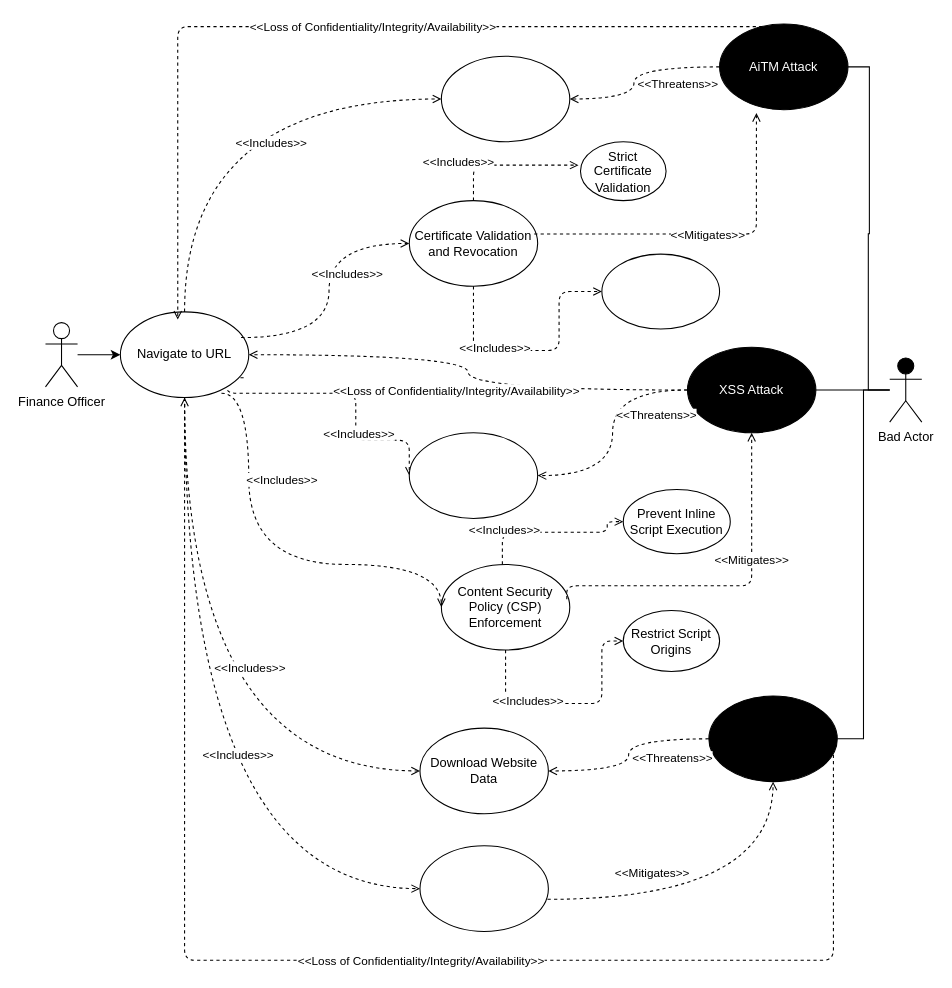
Some shapes in this 952 by 988 pixel diagram are drawn without their labels. The shapes that lost their labels are listed below. From the top down, each one's centre as x and y in pixels, then its label:
pixel 505 98: Transmit User Data
pixel 660 291: Online Certificate Status Protocol (OCSP) Stapling
pixel 473 475: Render Website
pixel 772 738: Malicious Download
pixel 483 888: Block Automatic Downloads
